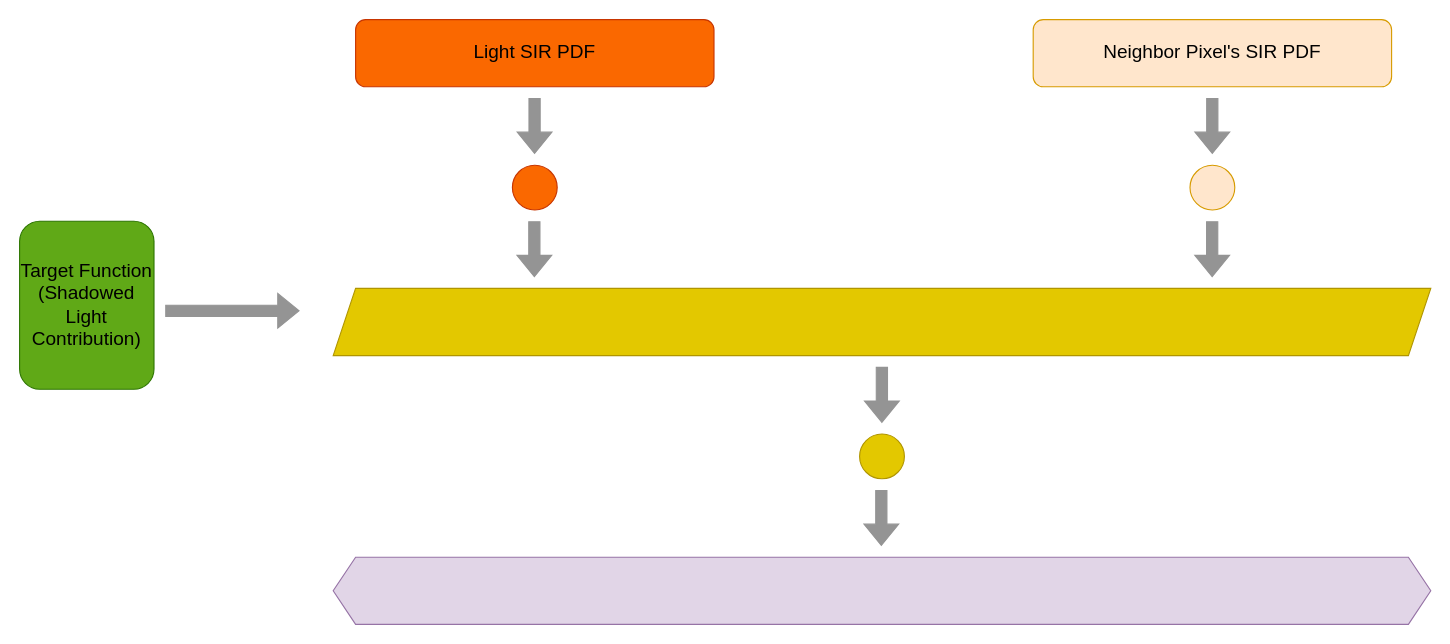
Some shapes in this 1450 by 644 pixel diagram are drawn without their labels. Here are the shapes that lost their labels. From the top down, the box of each, then its label:
(332, 287, 1431, 356): Picking a target sample from proposal sample set
(332, 556, 1431, 624): RIS Estimator
